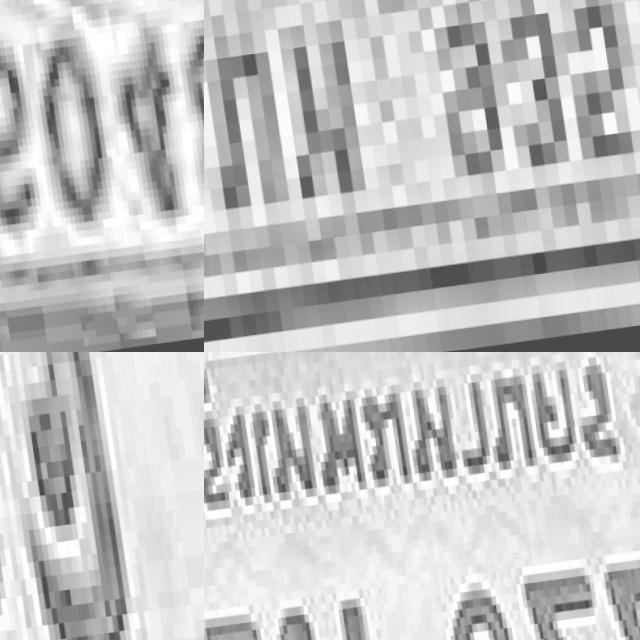license-plate: (204, 0, 640, 335), (204, 352, 640, 640), (0, 0, 204, 352), (0, 352, 204, 640)
